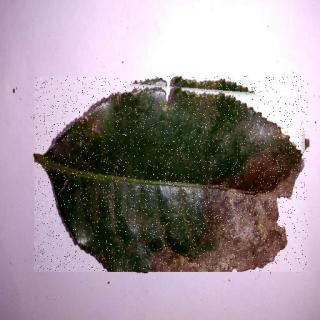Anthracnose: (36, 78, 310, 273)
